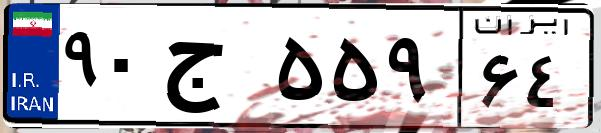0: (110, 28, 158, 98)
4: (525, 38, 570, 115)
5: (270, 28, 330, 110), (330, 28, 385, 110)
6: (475, 38, 525, 113)
9: (385, 28, 445, 110), (57, 26, 110, 100)
ج: (158, 20, 270, 120)
